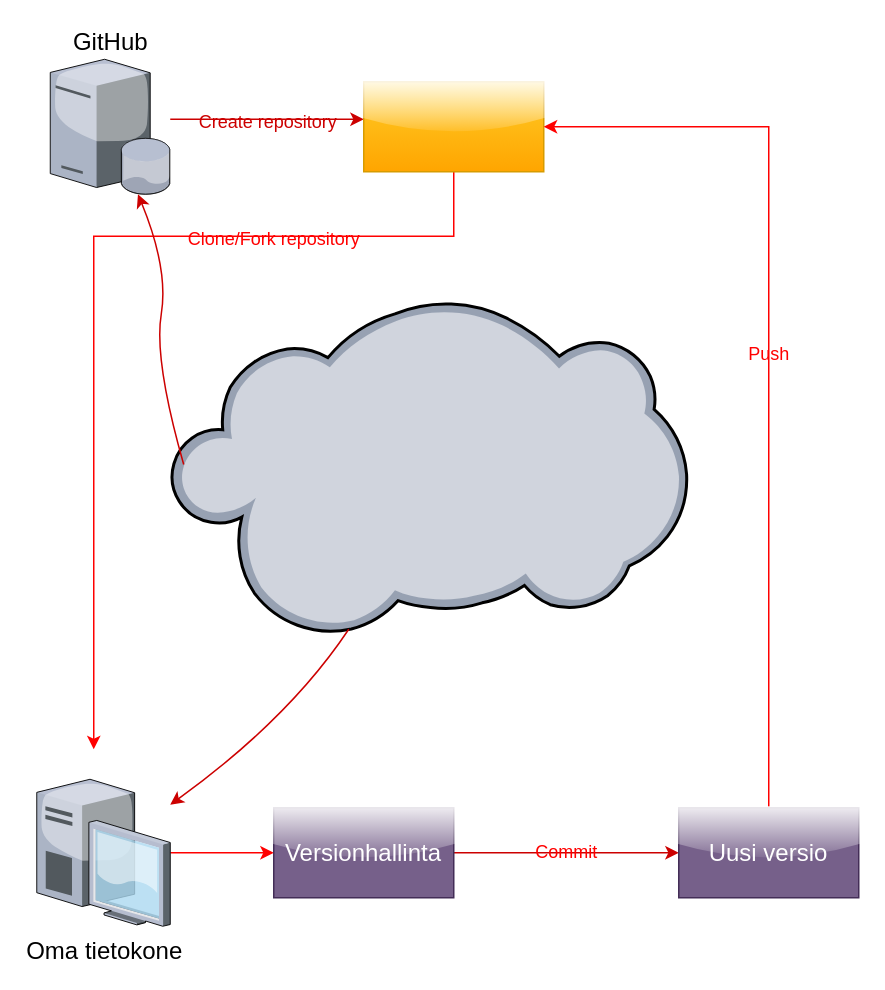
This 885x990 diagram has some shape labels left out. The centre of each missing label's shape, as x and y in pixels:
"Code-sivu" belongs at pixel 453 126.
"Internet" belongs at pixel 428 467.
